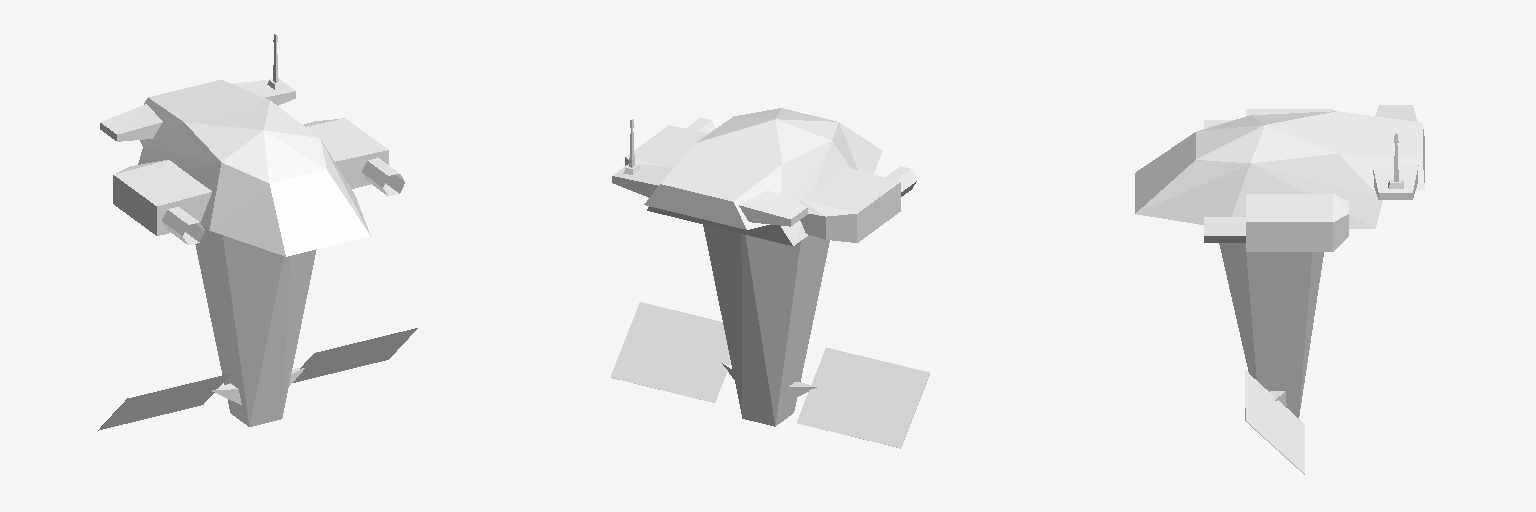
File: acs63.obj
The picture shows the model from 3 angles: view 1: azimuth 30°, elevation 25°; view 2: azimuth 150°, elevation 25°; view 3: azimuth 270°, elevation 25°; orthographic projection.
Visible parts, largest first — view 1: frm-turret1, frm-cube1, frm-rwepbas, frm-lwepbas, frm-cube6, frm-cube5, frm-rwingzz, frm-cyl5, frm-cyl4, frm-lwingzz; view 2: frm-turret1, frm-cube1, frm-cube6, frm-cube5, frm-rwepbas, frm-lwepbas, frm-rwingzz, frm-lwingzz; view 3: frm-turret1, frm-cube1, frm-lwepbas, frm-cube5, frm-lwingzz, frm-cyl5, frm-rwingzz.
Boxes of the visible parts, x1=… form: frm-turret1: x1=138, y1=80, x2=370, y2=256; frm-cube1: x1=195, y1=226, x2=316, y2=426; frm-rwepbas: x1=113, y1=160, x2=211, y2=235; frm-lwepbas: x1=303, y1=118, x2=388, y2=188; frm-cube6: x1=98, y1=373, x2=231, y2=430; frm-cube5: x1=293, y1=327, x2=418, y2=382; frm-rwingzz: x1=100, y1=104, x2=162, y2=141; frm-cyl5: x1=362, y1=158, x2=404, y2=196; frm-cyl4: x1=162, y1=207, x2=204, y2=244; frm-lwingzz: x1=233, y1=79, x2=295, y2=105; frm-turret1: x1=644, y1=108, x2=882, y2=245; frm-cube1: x1=703, y1=225, x2=829, y2=426; frm-cube6: x1=797, y1=347, x2=929, y2=448; frm-cube5: x1=610, y1=302, x2=730, y2=402; frm-rwepbas: x1=800, y1=167, x2=900, y2=242; frm-lwepbas: x1=625, y1=125, x2=707, y2=166; frm-rwingzz: x1=739, y1=190, x2=807, y2=226; frm-lwingzz: x1=612, y1=164, x2=673, y2=197; frm-turret1: x1=1135, y1=111, x2=1424, y2=228; frm-cube1: x1=1219, y1=243, x2=1323, y2=417; frm-lwepbas: x1=1246, y1=194, x2=1348, y2=251; frm-cube5: x1=1245, y1=370, x2=1304, y2=474; frm-lwingzz: x1=1373, y1=164, x2=1418, y2=199; frm-cyl5: x1=1204, y1=217, x2=1245, y2=242; frm-rwingzz: x1=1375, y1=105, x2=1417, y2=121.
Bounding box in the file's own units: 1.83 × 1.93 × 1.58.